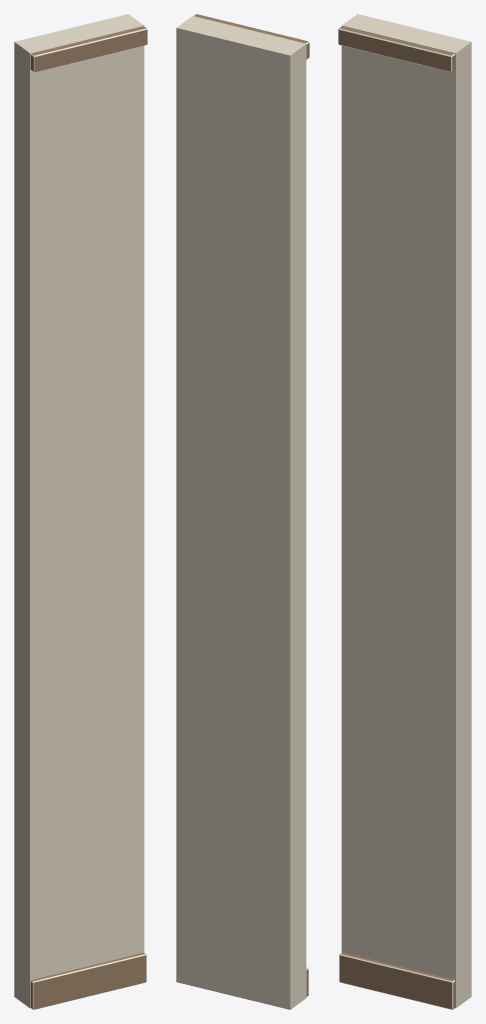
File: muro_medio_400.glb
3 renders of one model, left to right at view 1: azimuth 30°, elevation 25°; view 2: azimuth 150°, elevation 25°; view 3: azimuth 330°, elevation 25°, orthographic.
Parts seen in each view (by area): view 1: muro_medio_400; view 2: muro_medio_400; view 3: muro_medio_400.
Boxes of the visible parts, box(x1,y1,x2,y2) form: muro_medio_400: box(14, 14, 147, 1009); muro_medio_400: box(176, 14, 309, 1009); muro_medio_400: box(338, 14, 471, 1009).
Bounding box in the file's own units: 0.5 × 4 × 0.15.
